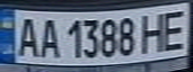1: (63, 16, 84, 58)
3: (78, 16, 100, 60)
8: (115, 14, 142, 57), (100, 16, 121, 57)
A: (12, 14, 42, 58), (36, 15, 60, 58)
E: (157, 6, 193, 52)
H: (136, 10, 172, 54)
